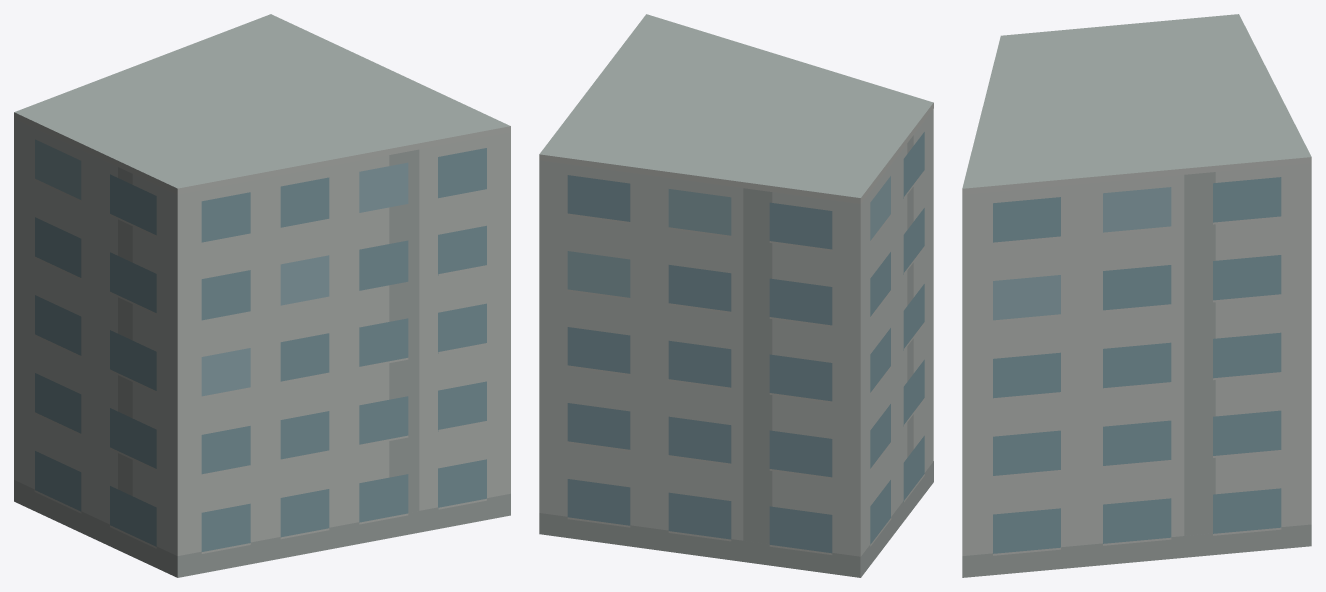
The model's file is residential-cf5702c0-b348-4f16-8ff3-7c0ed422d2a1.glb.
The picture shows the model from 3 angles, left to right: view 1: azimuth 30°, elevation 25°; view 2: azimuth 150°, elevation 25°; view 3: azimuth 270°, elevation 25°; orthographic projection. The views are drawn at different scales.
Visible parts, largest first — view 1: residential-cf5702c0-b348-4f16-8ff3-7c0ed422d2a1.tmp; view 2: residential-cf5702c0-b348-4f16-8ff3-7c0ed422d2a1.tmp; view 3: residential-cf5702c0-b348-4f16-8ff3-7c0ed422d2a1.tmp.
Boxes of the visible parts, box(x1,y1,x2,y2) form: residential-cf5702c0-b348-4f16-8ff3-7c0ed422d2a1.tmp: box(14, 14, 510, 577); residential-cf5702c0-b348-4f16-8ff3-7c0ed422d2a1.tmp: box(539, 14, 933, 577); residential-cf5702c0-b348-4f16-8ff3-7c0ed422d2a1.tmp: box(962, 14, 1311, 577).
Size of the model in its own units: 14.7 by 15.25 by 12.42.
